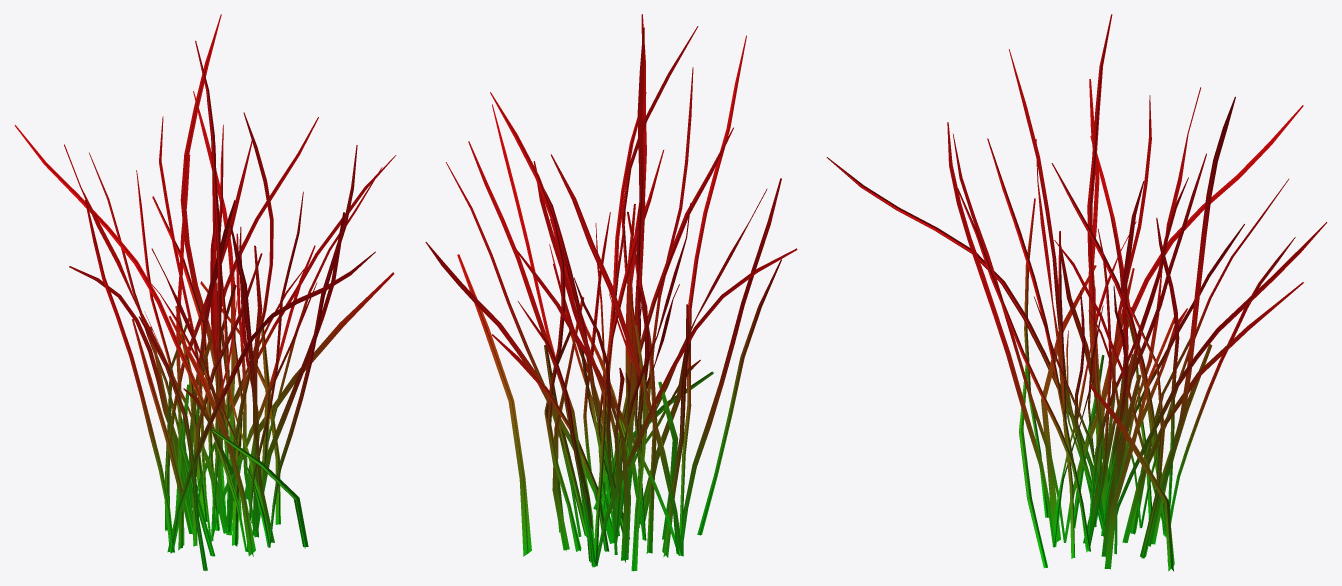
Rendered from ueyoebmia_Var3_LOD0.fbx.
3 renders of one model, left to right at view 1: azimuth 30°, elevation 25°; view 2: azimuth 150°, elevation 25°; view 3: azimuth 270°, elevation 25°, orthographic. The views are drawn at different scales.
Parts seen in each view (by area): view 1: _4717_Var3_LOD0; view 2: _4717_Var3_LOD0; view 3: _4717_Var3_LOD0.
Part boxes in pixels (<box>): _4717_Var3_LOD0: <box>14,14,396,571</box>; _4717_Var3_LOD0: <box>425,14,797,571</box>; _4717_Var3_LOD0: <box>826,14,1327,571</box>.
Bounding box in the file's own units: 21.53 × 31.86 × 28.07.
